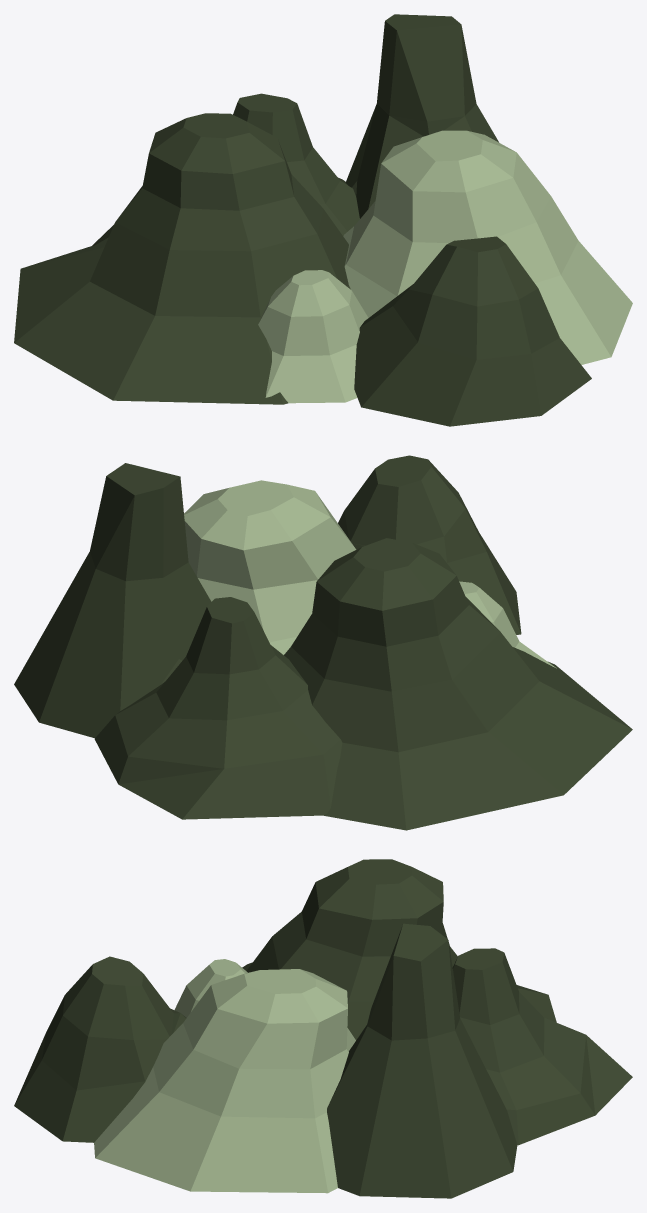
File: EA_Swamp_Grass_Hill_Dead_01a.glb
The picture shows the model from 3 angles, top to bottom: view 1: azimuth 30°, elevation 25°; view 2: azimuth 150°, elevation 25°; view 3: azimuth 270°, elevation 25°; orthographic projection. The views are drawn at different scales.
Visible parts, largest first — view 1: EA_Swamp_Grass_Hill_Dead_01a; view 2: EA_Swamp_Grass_Hill_Dead_01a; view 3: EA_Swamp_Grass_Hill_Dead_01a.
Boxes of the visible parts, x1=… form: EA_Swamp_Grass_Hill_Dead_01a: x1=14, y1=14, x2=632, y2=426; EA_Swamp_Grass_Hill_Dead_01a: x1=14, y1=455, x2=632, y2=830; EA_Swamp_Grass_Hill_Dead_01a: x1=14, y1=859, x2=632, y2=1198.
Bounding box in the file's own units: 0.6152 × 0.2498 × 0.6663.
Materials: 1 (1 with a texture image).
